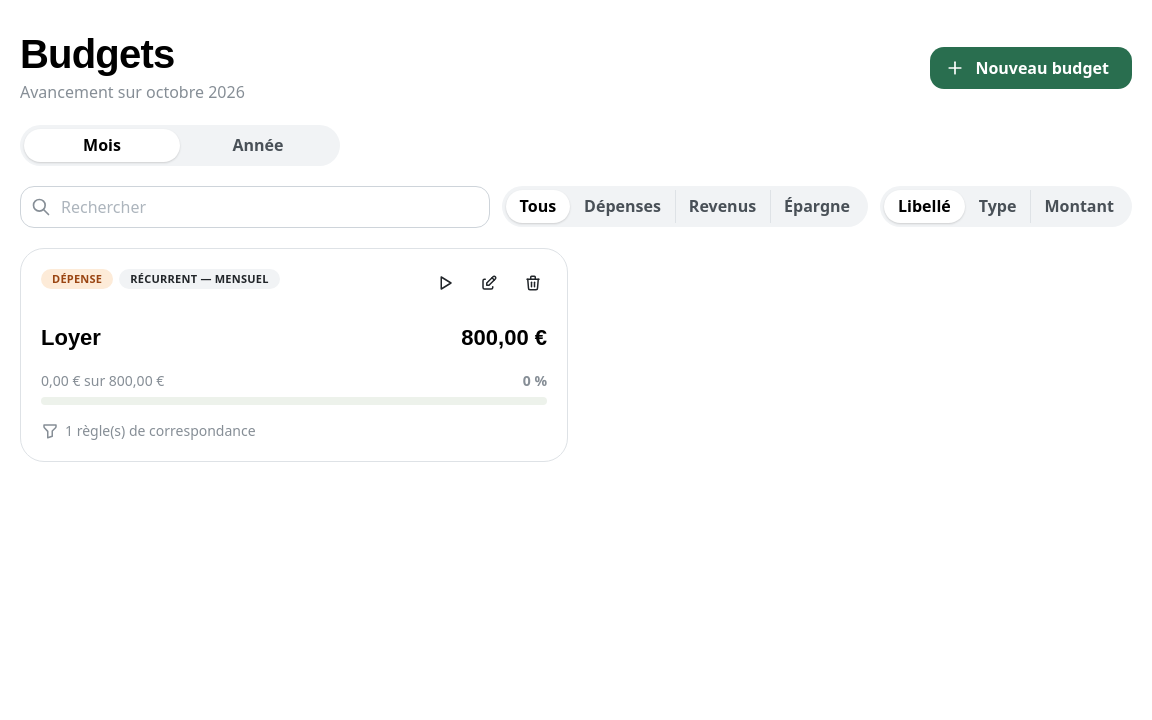
Test case: BudgetsPage › shows apply confirmation modal with force option
The image size is (1152, 720).
# Click the apply button (play icon)
Step 1. Click the button named "Appliquer" → (445, 283), box [423,261,467,305]
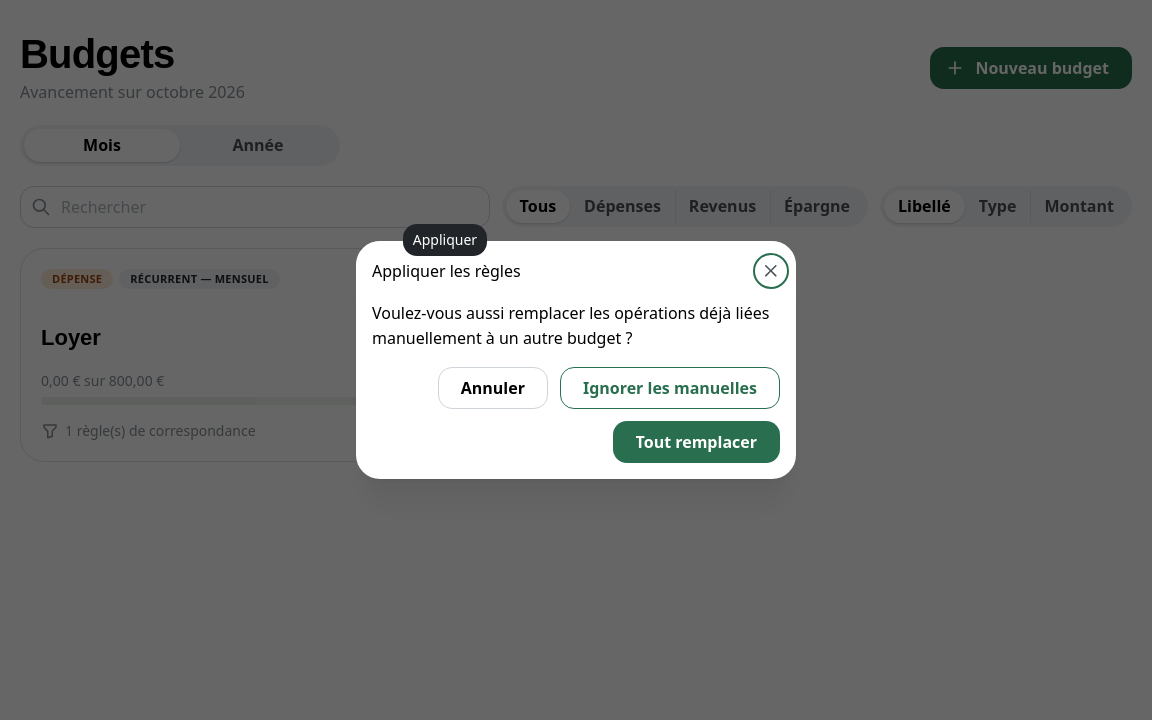
Expected: the text "Voulez-vous aussi remplacer les opérations déjà liées manuellement à un autre budget ?" is shown, [372,302,769,349]
Expected: the button "Ignorer les manuelles" is shown, [560,367,780,409]
Expected: the button "Tout remplacer" is shown, [613,421,780,463]
